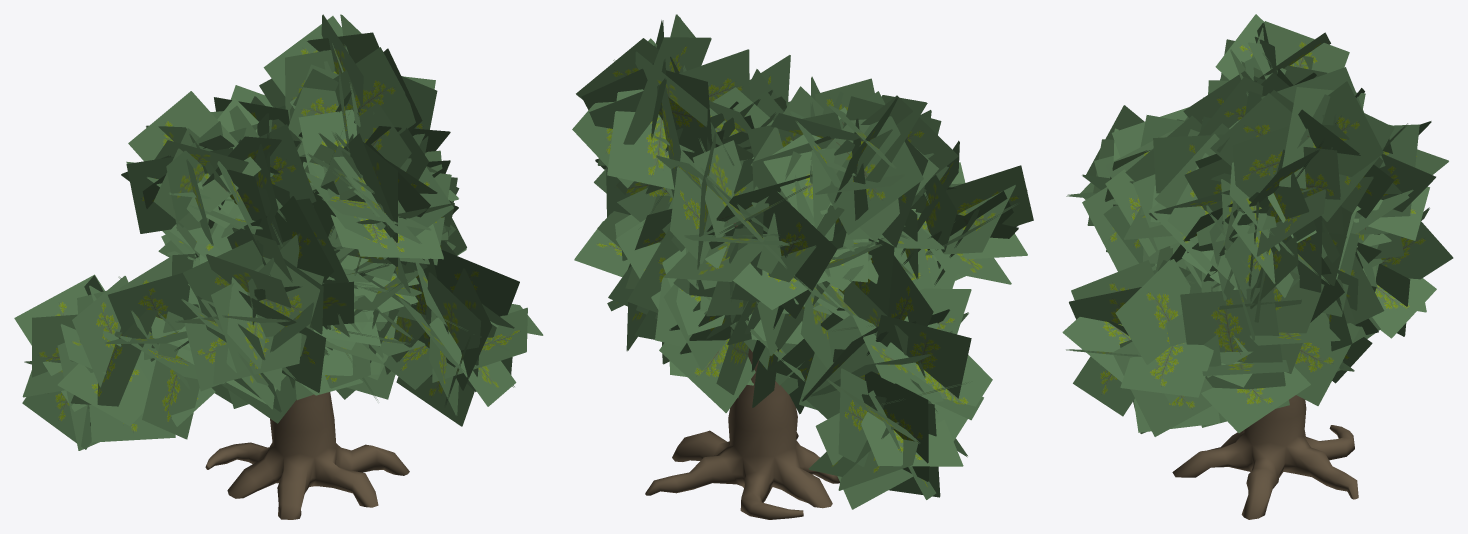
The model's file is TreeModelSample1.fbx.
The picture shows the model from 3 angles, left to right: view 1: azimuth 30°, elevation 25°; view 2: azimuth 150°, elevation 25°; view 3: azimuth 270°, elevation 25°; orthographic projection. The views are drawn at different scales.
Parts seen in each view (by area): view 1: Tree4; view 2: Tree4; view 3: Tree4.
Part boxes in pixels (left/top/right/bottom): Tree4: left=14, top=14, right=543, bottom=519; Tree4: left=572, top=14, right=1033, bottom=519; Tree4: left=1062, top=14, right=1453, bottom=519.
Size of the model in its own units: 15.83 by 15.86 by 12.91.
